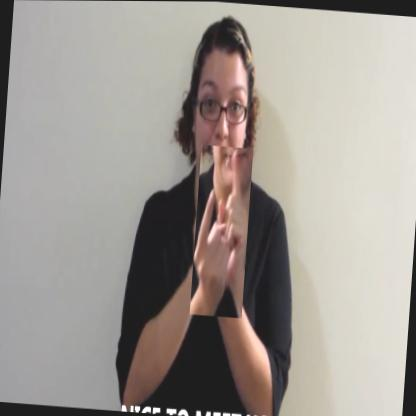NiceToMeetYou: (190, 145, 254, 318)
